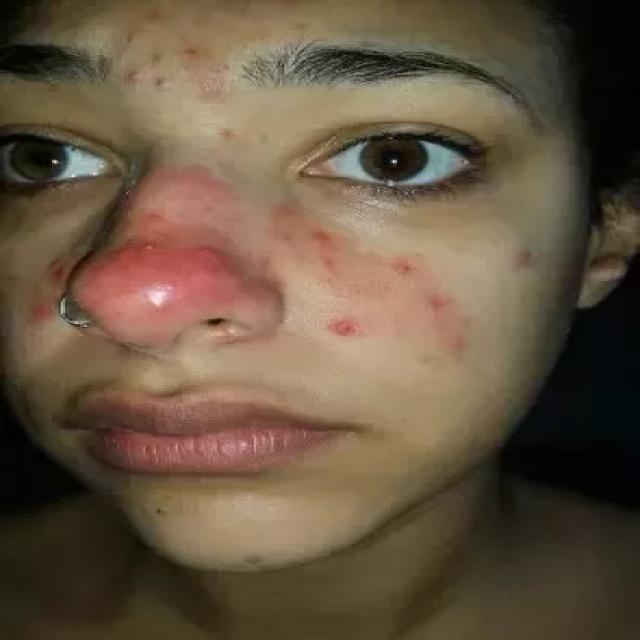Rosacea: (317, 226, 464, 348), (122, 246, 242, 317), (33, 258, 86, 304)
